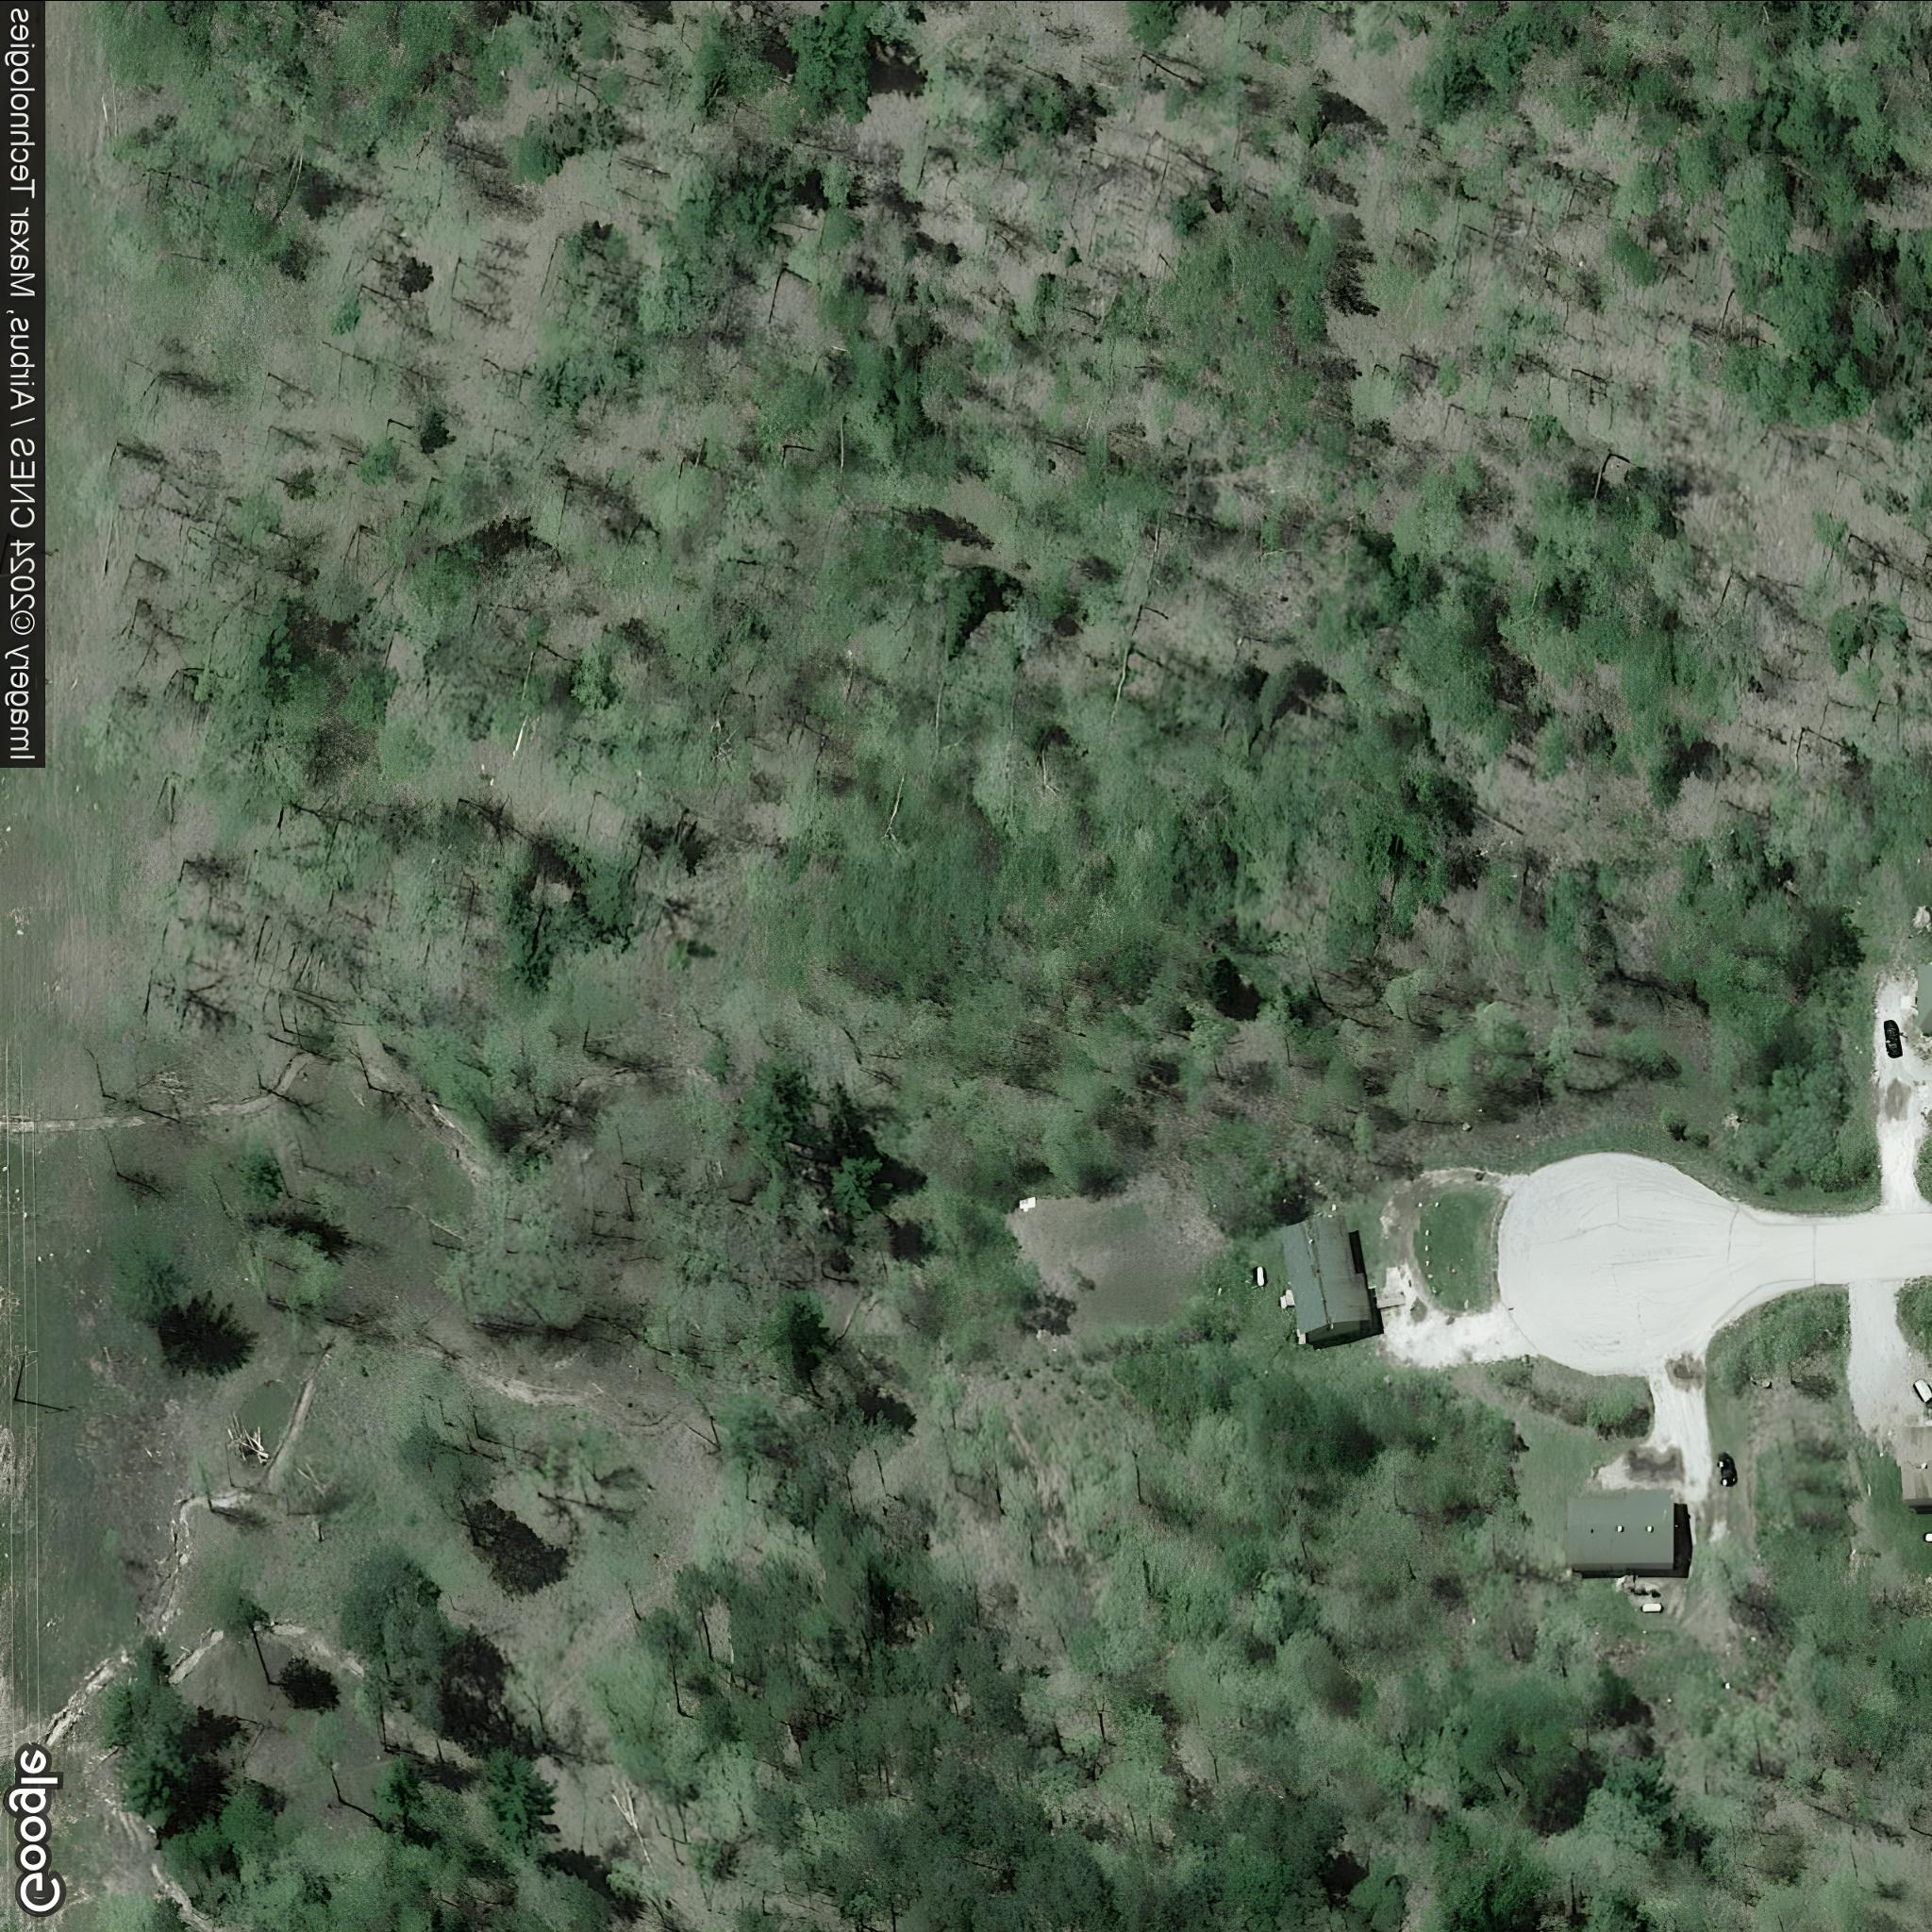House: (1277, 1215, 1371, 1343), (1564, 1488, 1675, 1569), (1900, 1424, 1932, 1506)
Propane: (1251, 1261, 1267, 1286), (1640, 1603, 1665, 1614)
